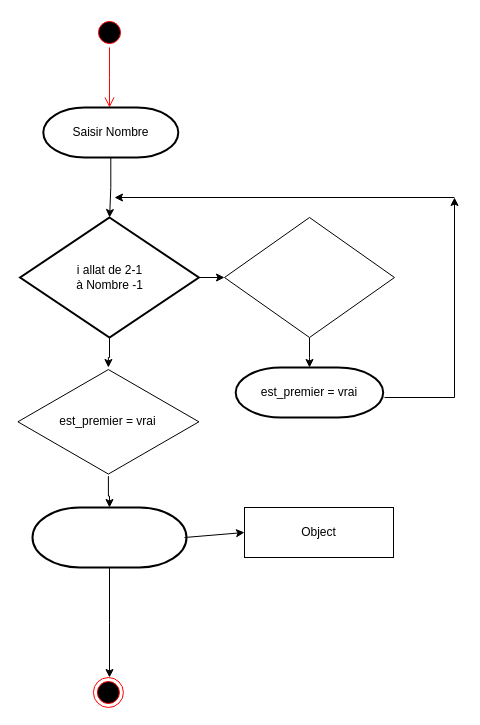
This 480x725 diagram has some shape labels left out. The centre of each missing label's shape, as x and y in pixels:
"Le Nombre est premier" goes at (x=109, y=537).
"Si Nombre%!=0" goes at (x=309, y=277).
